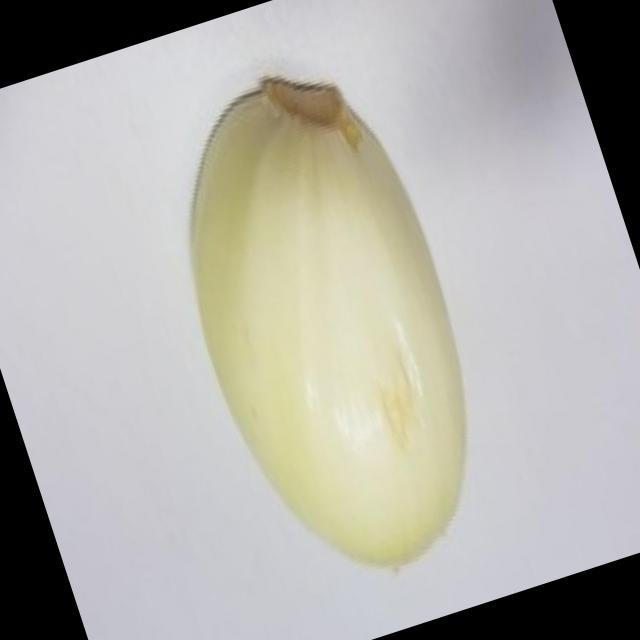Onion: (192, 78, 470, 566)
